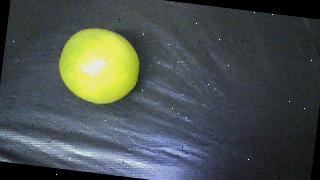LOCAL: (54, 24, 143, 108)
